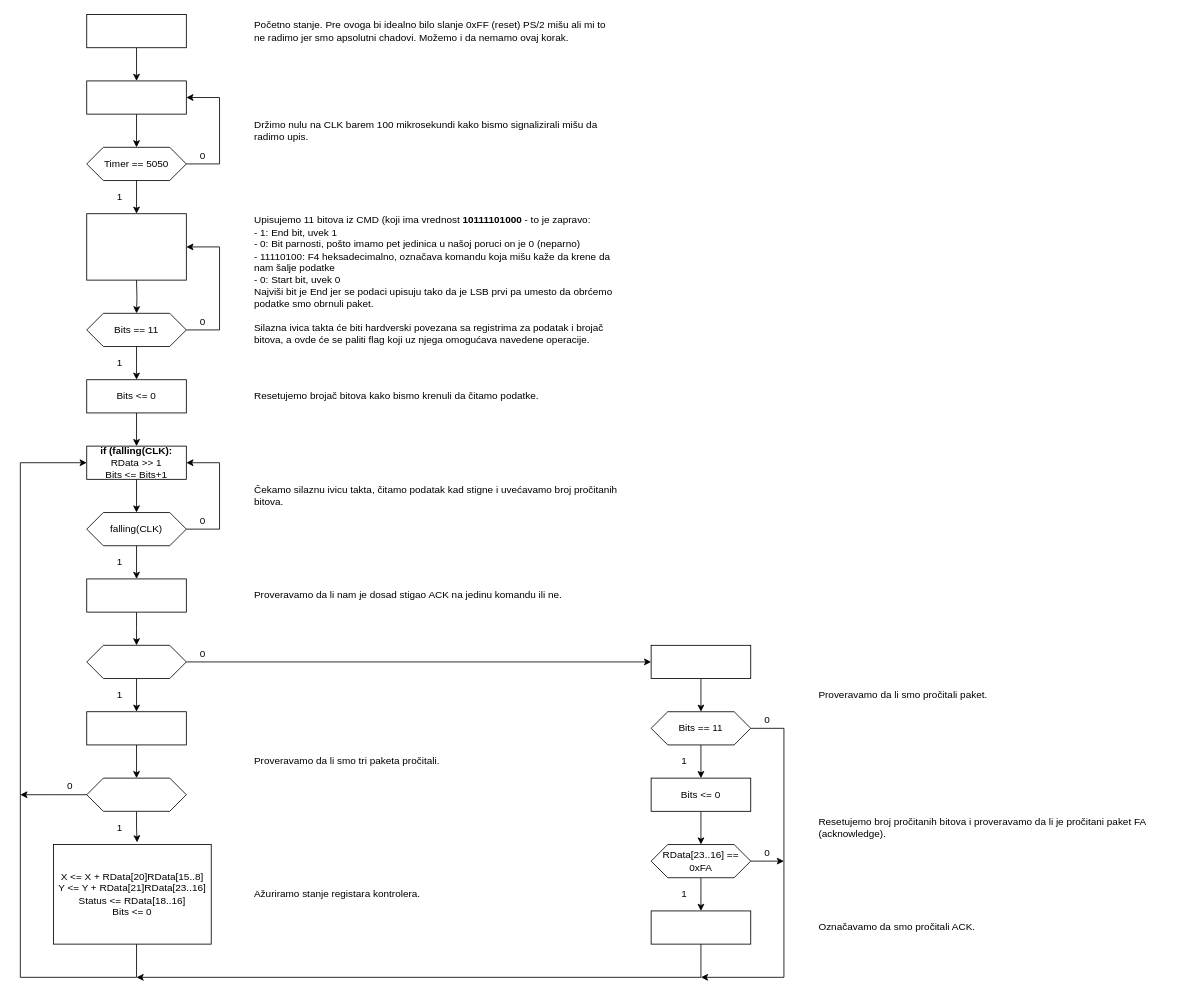
Some shapes in this 1197 by 998 pixel diagram are drawn without their labels. Here are the shapes that lost their labels. From the top down, the box of each, then its label:
(86, 80, 186, 114): Timer <= Timer + 1 CLK <= 0
(86, 213, 186, 280): Data <= CMD[0] if (falling(CLK): RData >> 1 Bits <= Bits+1
(86, 644, 186, 679): ACKed
(86, 777, 186, 811): Bits == 33
(650, 910, 751, 944): ACKed = 1
